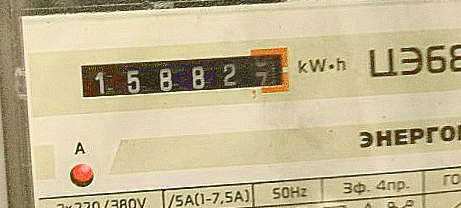1: (93, 65, 107, 95)
2: (220, 60, 238, 87)
5: (124, 66, 142, 96)
7: (253, 67, 267, 85)
8: (156, 64, 173, 93), (189, 61, 206, 90)
screen: (68, 37, 297, 109)
